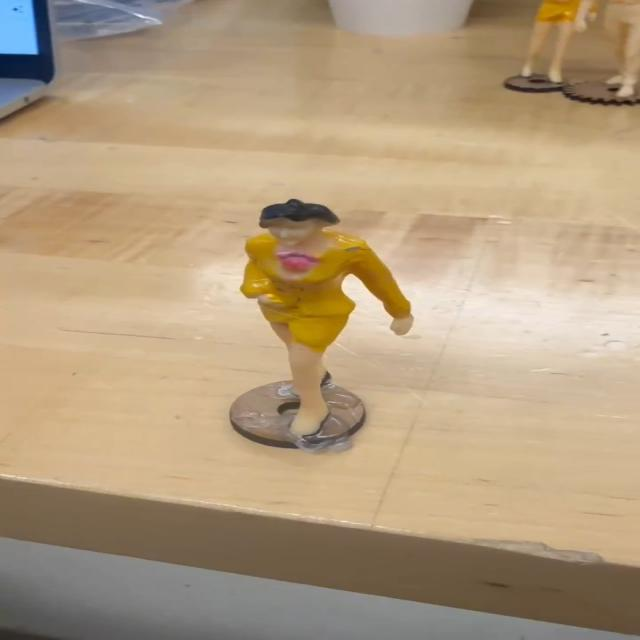Authorized: (228, 200, 423, 450)
